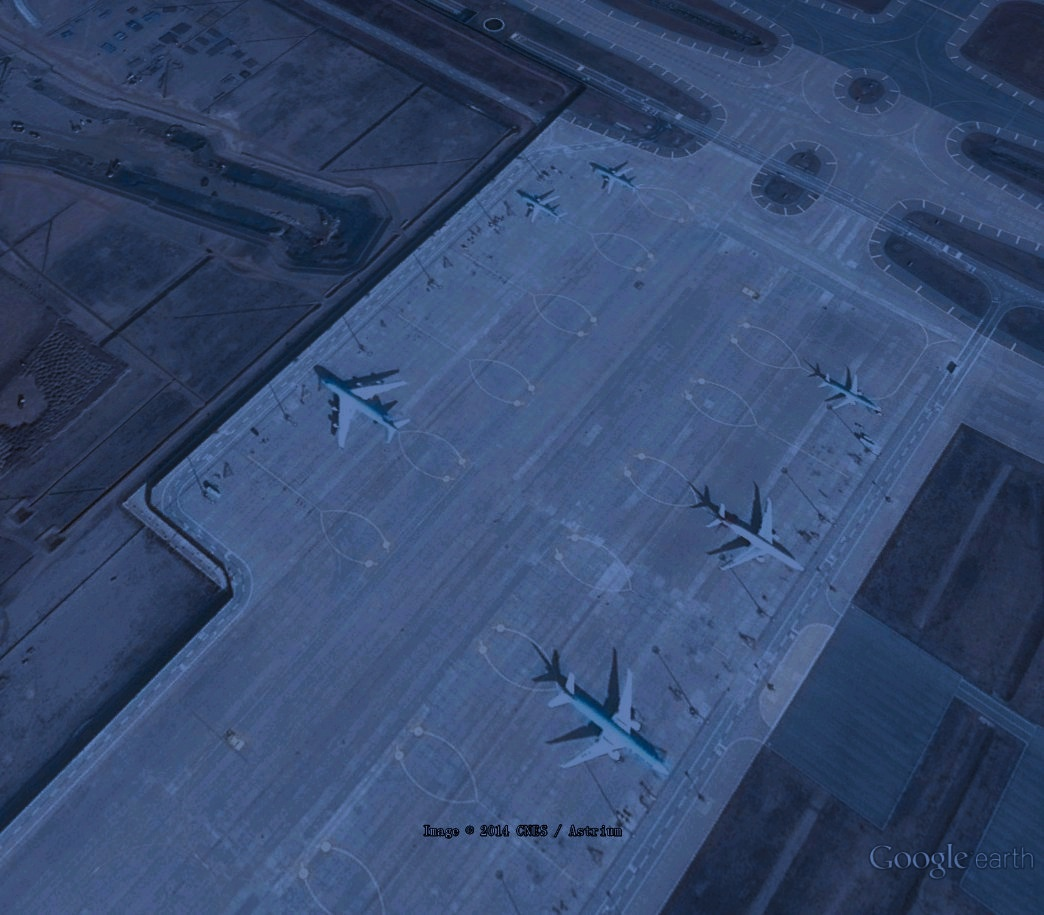aircraft: (544, 666, 673, 778), (705, 495, 807, 576), (315, 372, 415, 451), (816, 367, 886, 414), (516, 184, 570, 229), (589, 159, 645, 199)
